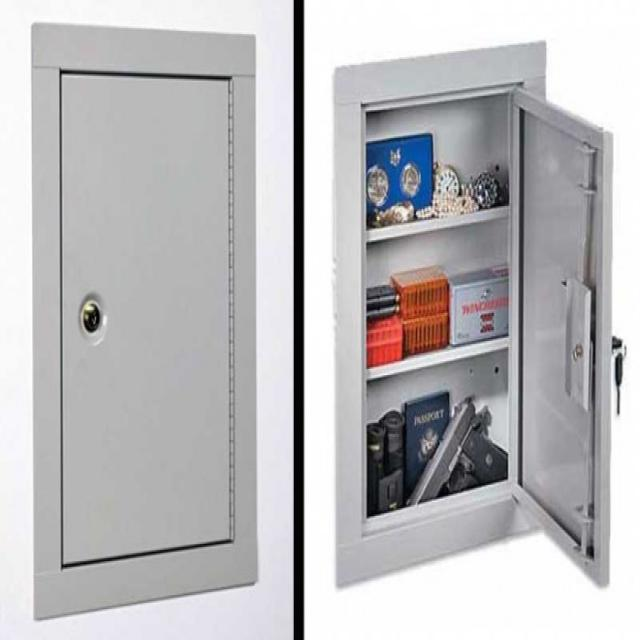HandGun: (406, 397, 508, 505)
